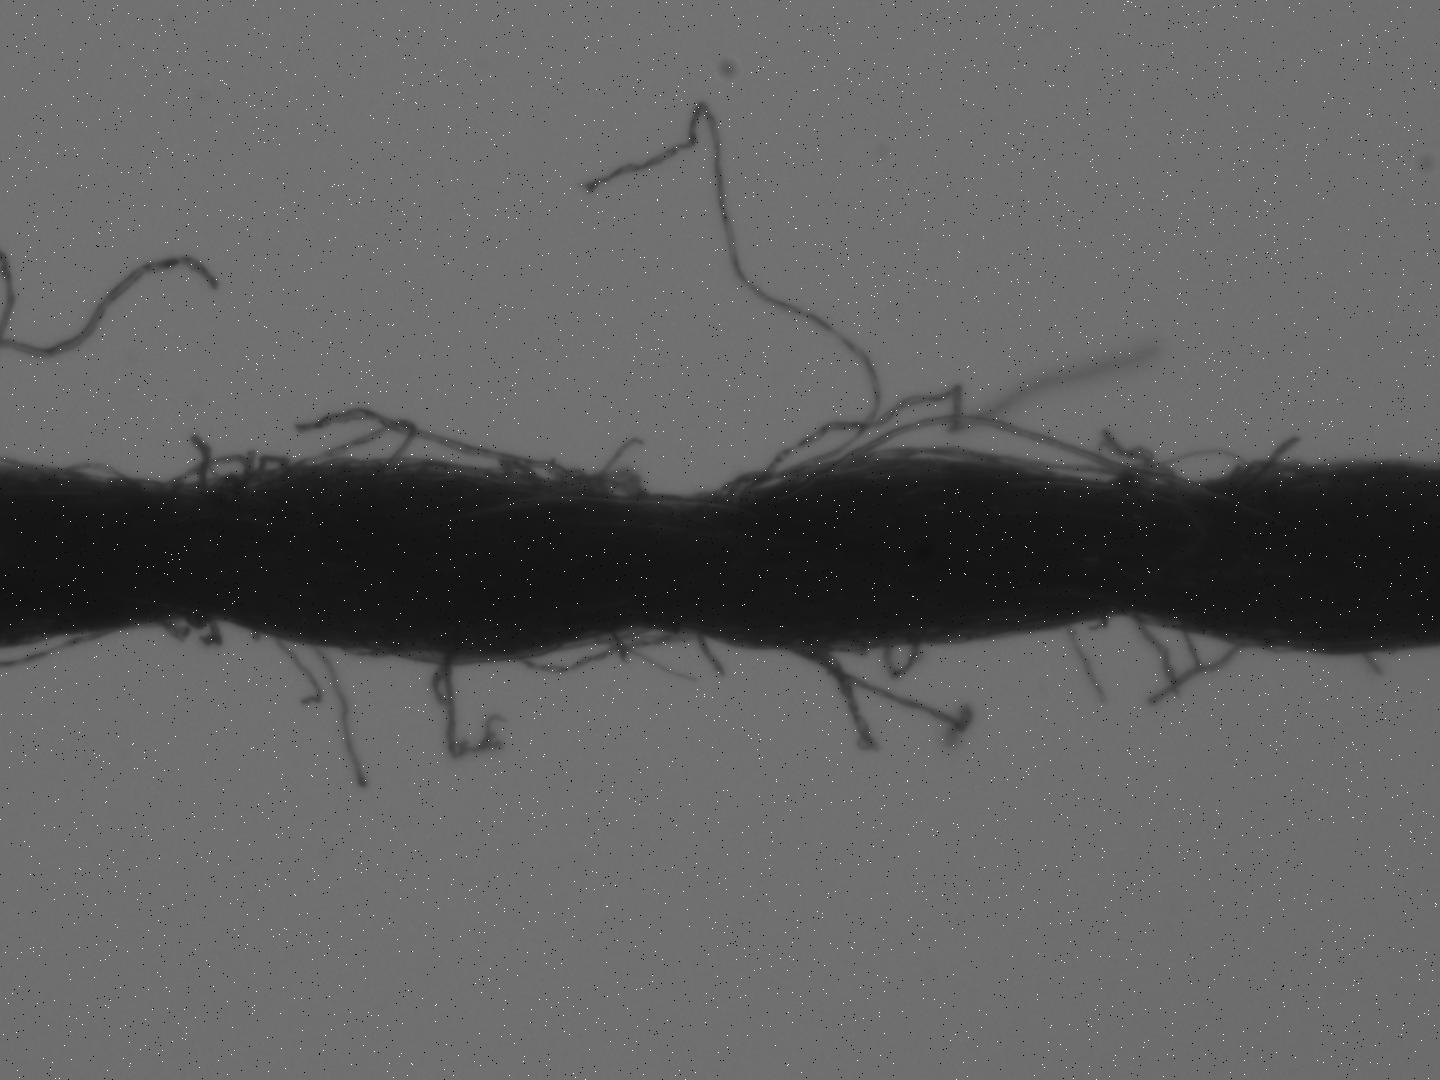loop_fiber: (754, 408, 1280, 535), (270, 413, 425, 495), (814, 442, 1054, 495), (508, 630, 672, 676), (149, 452, 261, 505), (498, 458, 641, 498), (1162, 455, 1245, 489), (879, 634, 923, 683), (61, 458, 122, 481)
protruding_fiber: (310, 638, 369, 793), (687, 627, 728, 677)
